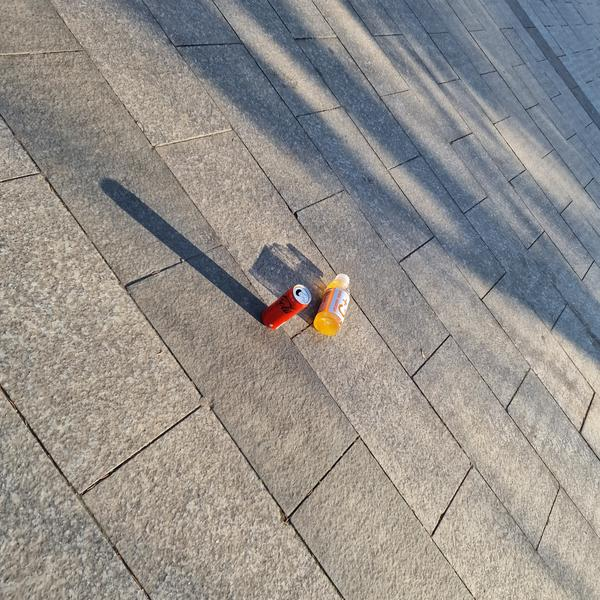can: (257, 280, 316, 334)
plastic_bottle: (311, 269, 358, 339)
